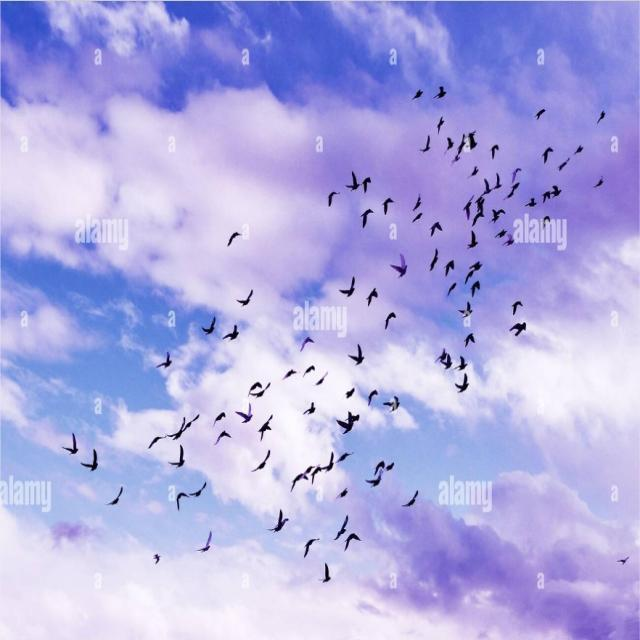bird: (251, 444, 271, 480), (382, 390, 408, 417), (104, 482, 125, 514), (400, 486, 424, 514), (346, 343, 372, 368), (336, 270, 356, 302), (272, 507, 291, 538), (256, 414, 278, 440), (195, 530, 215, 558), (390, 254, 412, 279), (81, 448, 102, 474), (189, 482, 214, 503), (300, 534, 320, 560), (233, 404, 254, 428), (222, 323, 240, 350), (236, 288, 256, 312), (169, 442, 186, 470), (62, 432, 80, 458), (317, 562, 335, 588), (551, 180, 568, 206), (538, 142, 558, 164), (185, 412, 203, 436), (339, 410, 354, 437), (146, 432, 166, 452), (336, 448, 356, 468), (458, 330, 478, 350), (464, 230, 484, 250), (295, 334, 317, 352), (346, 533, 364, 555), (167, 420, 184, 443), (149, 546, 164, 572), (333, 514, 349, 538), (418, 134, 434, 158), (453, 372, 472, 392), (362, 286, 379, 308), (334, 484, 351, 506), (456, 300, 473, 322), (201, 316, 217, 339), (174, 489, 190, 512), (382, 308, 396, 334), (492, 166, 503, 199), (358, 204, 373, 228), (379, 198, 397, 218), (345, 170, 360, 194), (508, 299, 528, 317), (486, 204, 504, 224), (612, 552, 634, 568), (426, 250, 442, 272), (362, 172, 376, 197), (554, 156, 572, 175), (156, 352, 173, 372), (322, 452, 336, 476), (462, 192, 474, 220), (366, 386, 381, 408), (454, 354, 469, 376), (469, 278, 484, 300), (225, 230, 242, 249), (253, 387, 272, 404), (366, 470, 382, 490), (442, 256, 458, 276), (508, 321, 529, 336), (212, 410, 226, 432), (430, 218, 444, 240), (290, 474, 308, 491), (594, 106, 610, 125), (590, 175, 606, 194), (213, 430, 233, 445), (434, 83, 449, 103), (510, 161, 524, 182), (488, 142, 504, 160), (411, 211, 427, 229), (411, 191, 424, 213), (410, 88, 425, 107), (434, 114, 448, 134), (538, 187, 552, 207), (532, 105, 548, 122), (313, 372, 331, 387), (456, 128, 467, 152), (525, 196, 541, 212), (302, 360, 316, 378), (468, 130, 482, 148), (280, 368, 300, 380), (572, 140, 587, 156), (384, 462, 399, 478), (432, 346, 447, 362), (503, 234, 520, 248), (442, 135, 456, 152), (441, 358, 454, 376), (247, 376, 263, 390), (302, 401, 316, 417), (484, 174, 494, 196), (312, 466, 324, 484), (446, 281, 458, 299), (468, 164, 480, 182), (472, 258, 485, 274), (463, 268, 476, 284), (495, 226, 509, 240), (342, 387, 356, 400), (374, 456, 384, 474), (302, 463, 316, 475), (328, 190, 340, 204), (509, 182, 524, 192), (504, 191, 517, 202), (450, 156, 460, 170), (476, 195, 484, 212), (471, 212, 482, 223)
